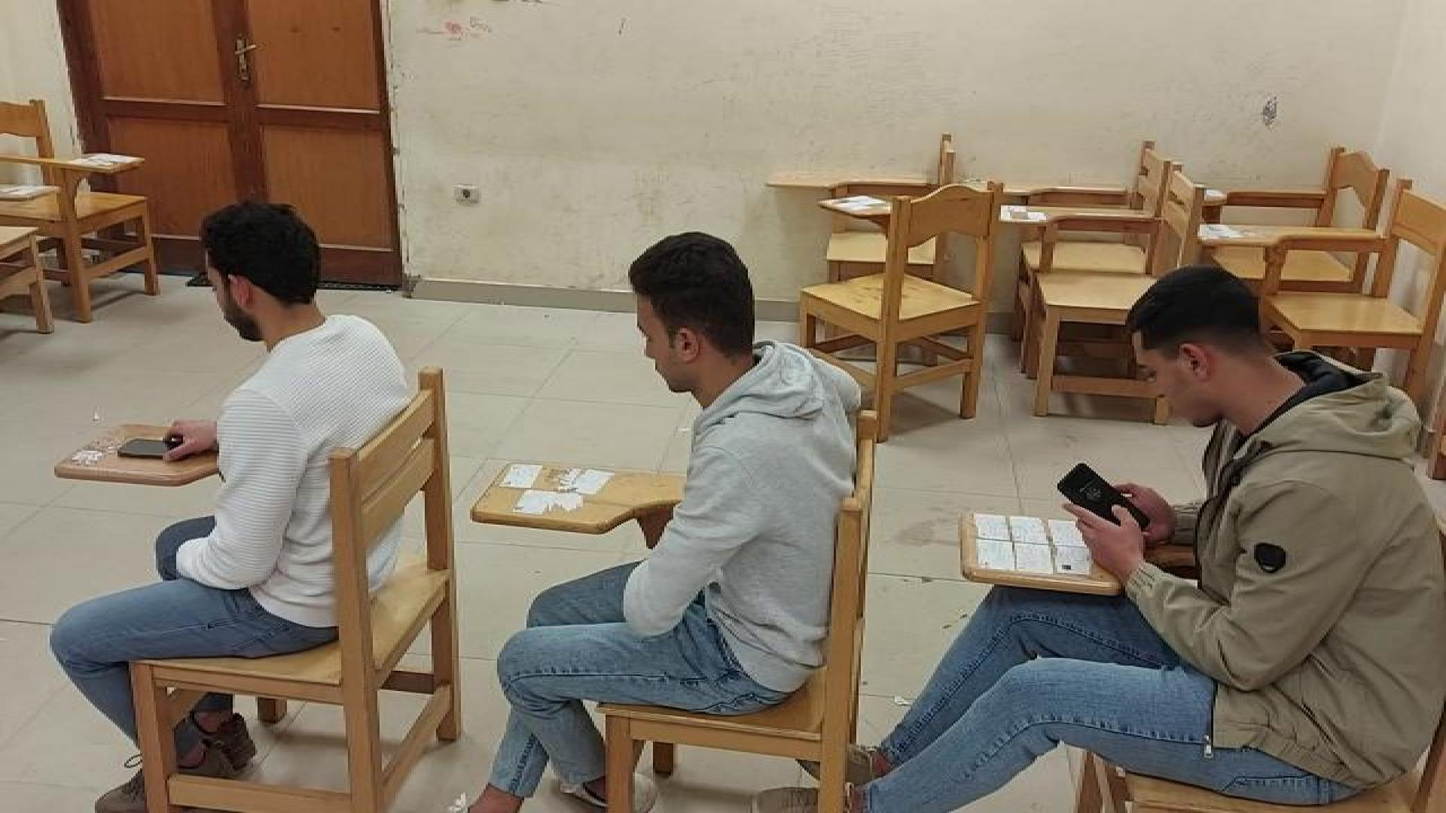phone: (1059, 465, 1149, 526), (123, 437, 180, 460)
